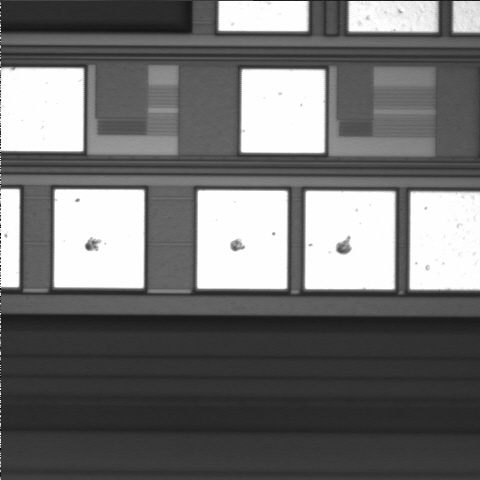pad: (54, 189, 144, 288), (197, 190, 287, 289), (305, 191, 395, 289), (241, 69, 325, 153)
